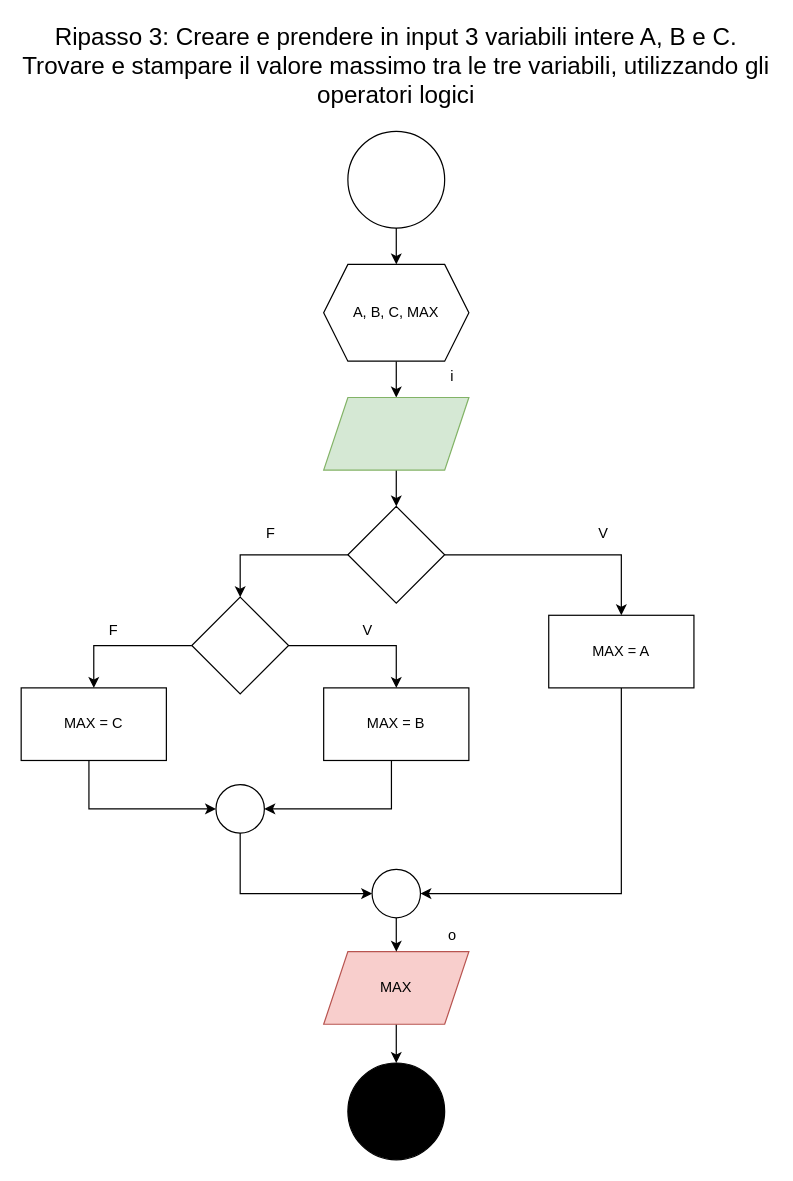
The diagram is 793 pixels wide and 1181 high, and some of its shapes have lost their labels. The centre of each missing label's shape, as x and y in pixels:
"A >= B && A>=C" belongs at point 396,554.
"A, B, C" belongs at point 395,433.
"B>=A && B>=C" belongs at point 240,645.
